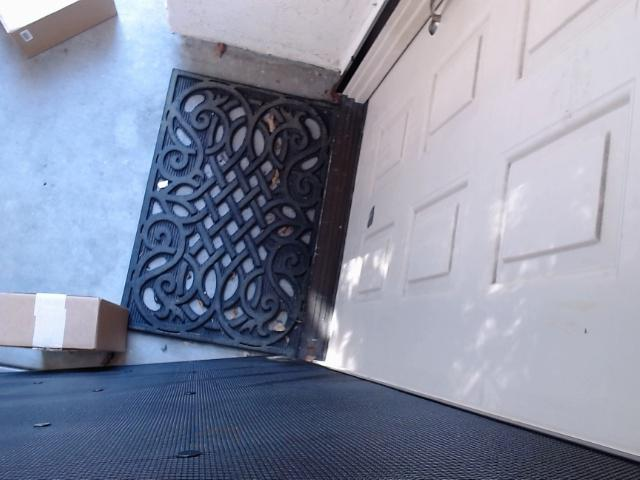box: (0, 258, 145, 394), (0, 0, 145, 86)
